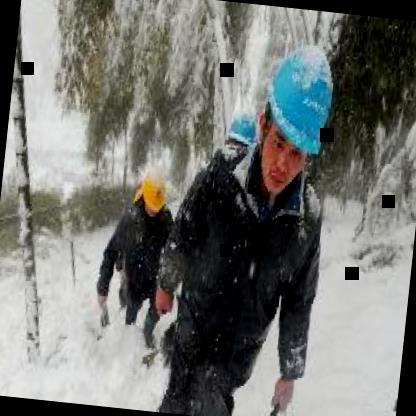helmet: (252, 29, 346, 206), (220, 104, 257, 170), (134, 158, 170, 218)
